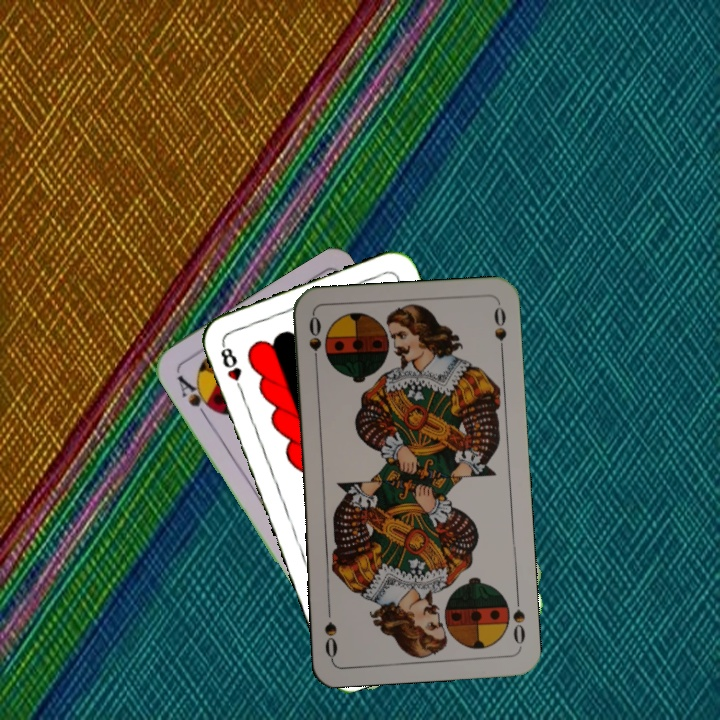H8: (216, 339, 246, 396)
SA: (173, 371, 218, 422)
SO: (305, 312, 324, 371), (509, 591, 528, 650)
